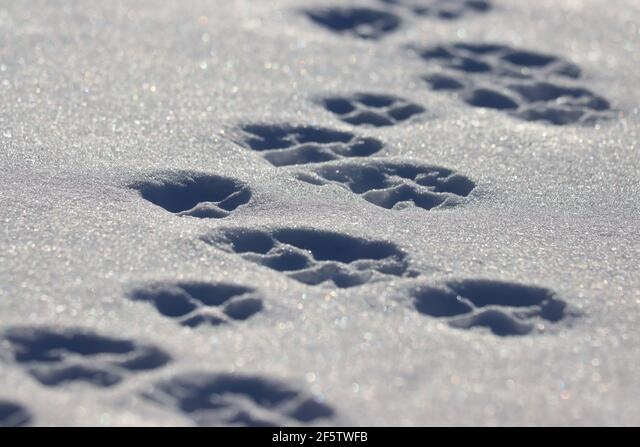fox: (397, 261, 569, 347), (337, 154, 483, 224), (137, 275, 269, 335)
